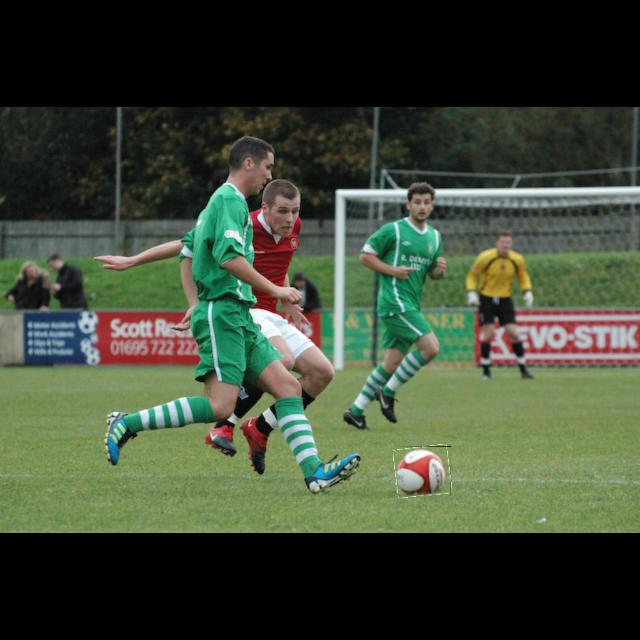Football: (395, 446, 451, 496)
